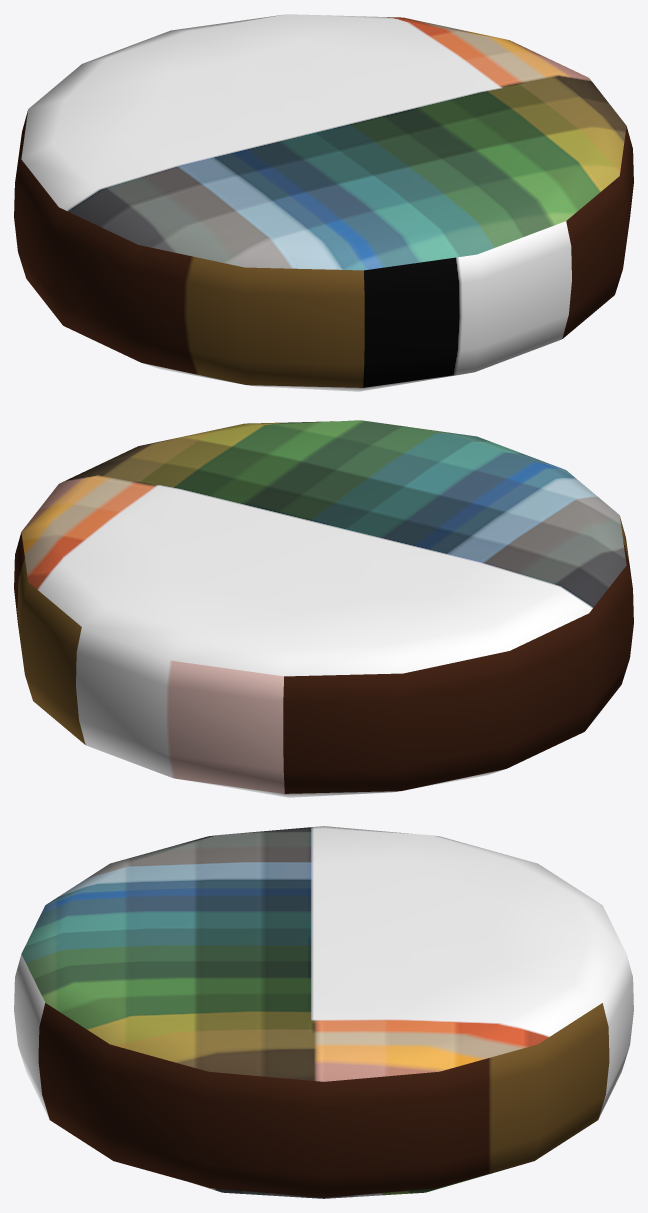
The model's file is SM_Prop_Food_Bun_Bottom.fbx.
The picture shows the model from 3 angles, top to bottom: view 1: azimuth 30°, elevation 25°; view 2: azimuth 150°, elevation 25°; view 3: azimuth 270°, elevation 25°; orthographic projection.
Parts seen in each view (by area): view 1: SM_Prop_Food_Bun_Bottom; view 2: SM_Prop_Food_Bun_Bottom; view 3: SM_Prop_Food_Bun_Bottom.
Boxes of the visible parts, left/top/right/bottom form: SM_Prop_Food_Bun_Bottom: left=14, top=14, right=633, bottom=391; SM_Prop_Food_Bun_Bottom: left=14, top=420, right=633, bottom=797; SM_Prop_Food_Bun_Bottom: left=14, top=826, right=633, bottom=1198.
Size of the model in its own units: 19.14 by 5.42 by 19.14.
